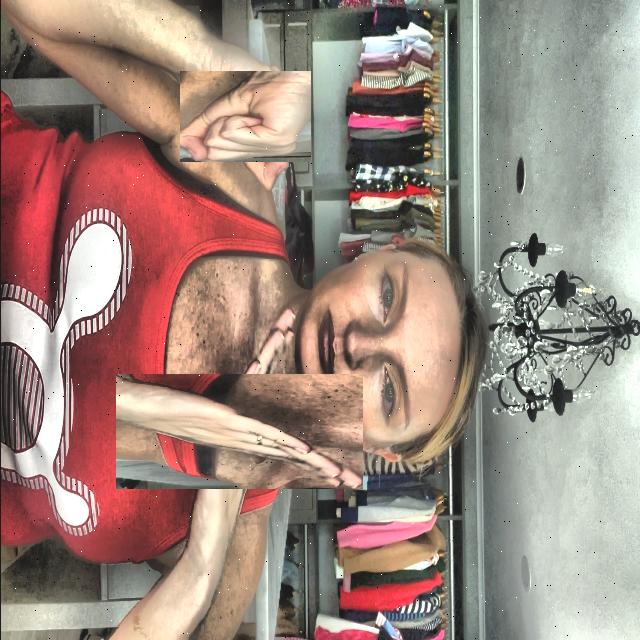not-gloved: (148, 340, 328, 522), (188, 61, 300, 172)
